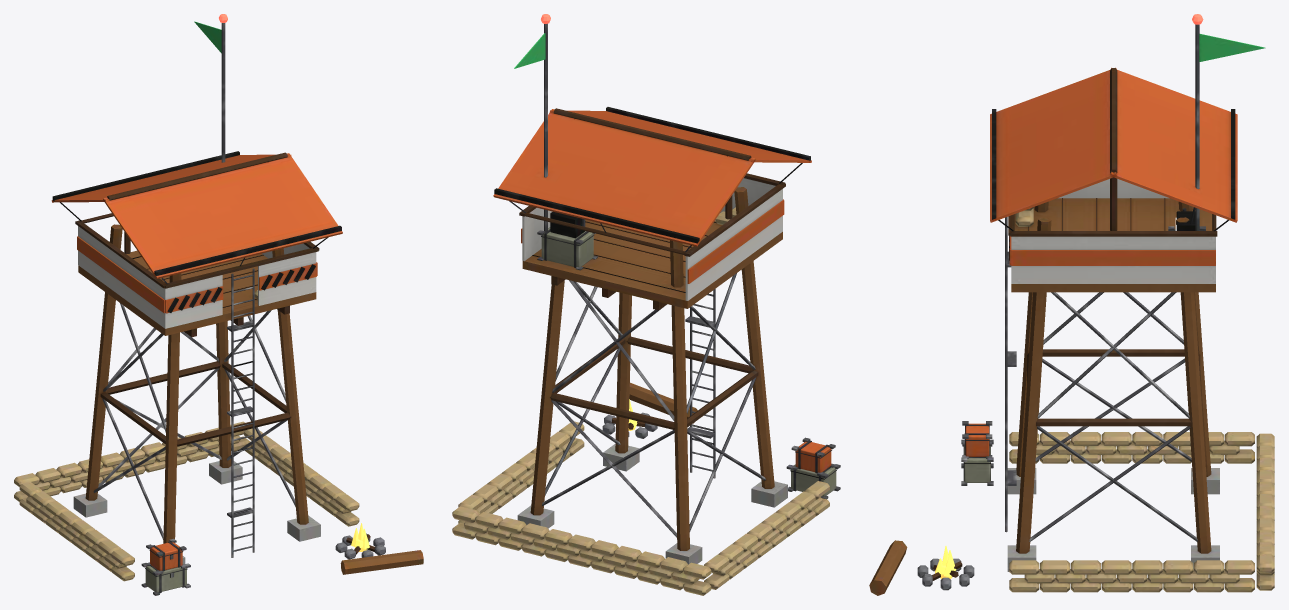
Rendered from watch.glb.
3 renders of one model, left to right at view 1: azimuth 30°, elevation 25°; view 2: azimuth 150°, elevation 25°; view 3: azimuth 270°, elevation 25°, orthographic. The views are drawn at different scales.
Visible parts, largest first — view 1: hull; view 2: hull; view 3: hull.
Boxes of the visible parts, x1,y1,x2,y2 form: hull: (14,21,423,595); hull: (452,23,840,595); hull: (869,24,1274,595).
Bounding box in the file's own units: 6.31 × 11.54 × 7.73.
16 materials, 12 textured.
